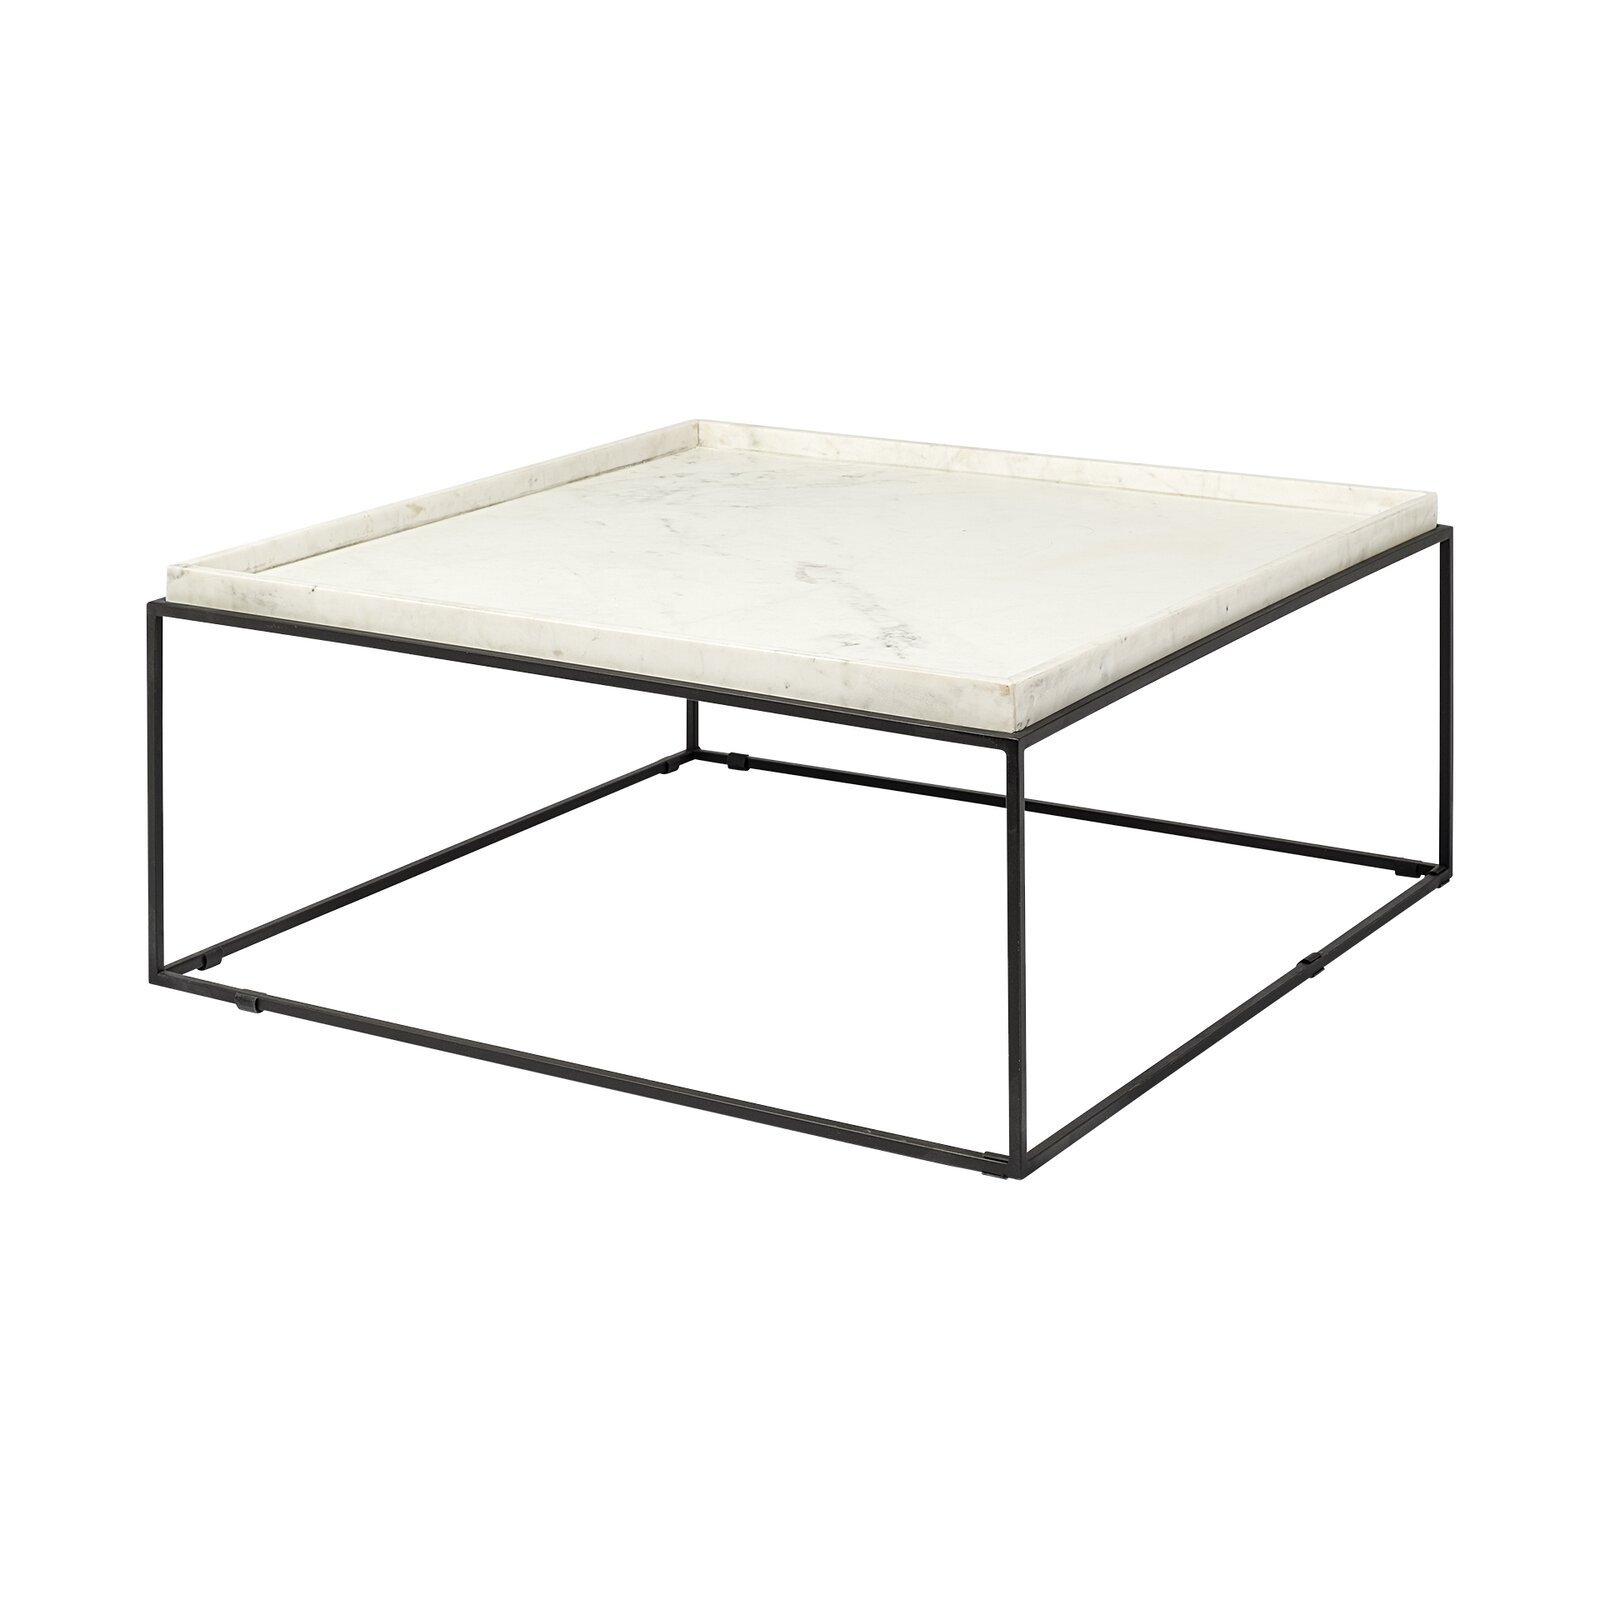obstacle: (147, 421, 1453, 1178)
